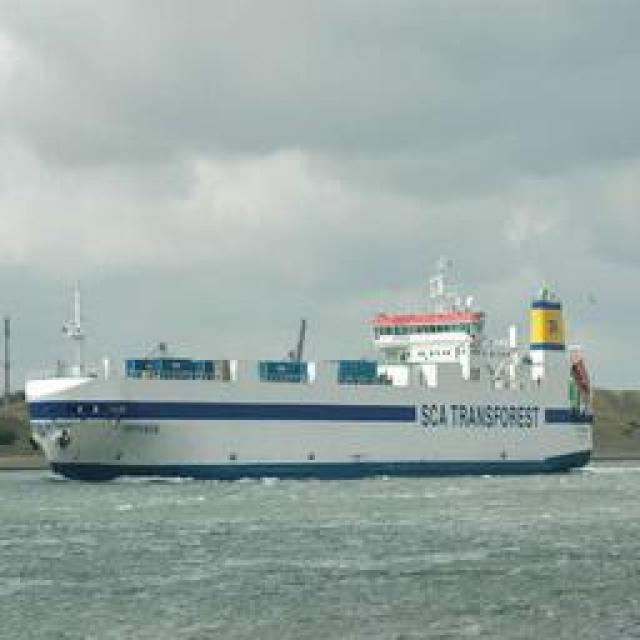ship2: (26, 295, 596, 482)
